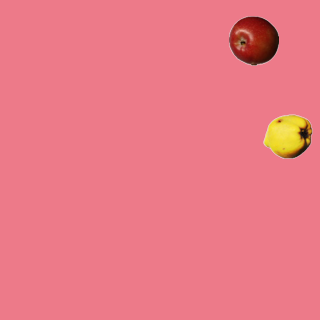Apple Braeburn: (228, 15, 278, 65)
Quince: (262, 111, 312, 161)
